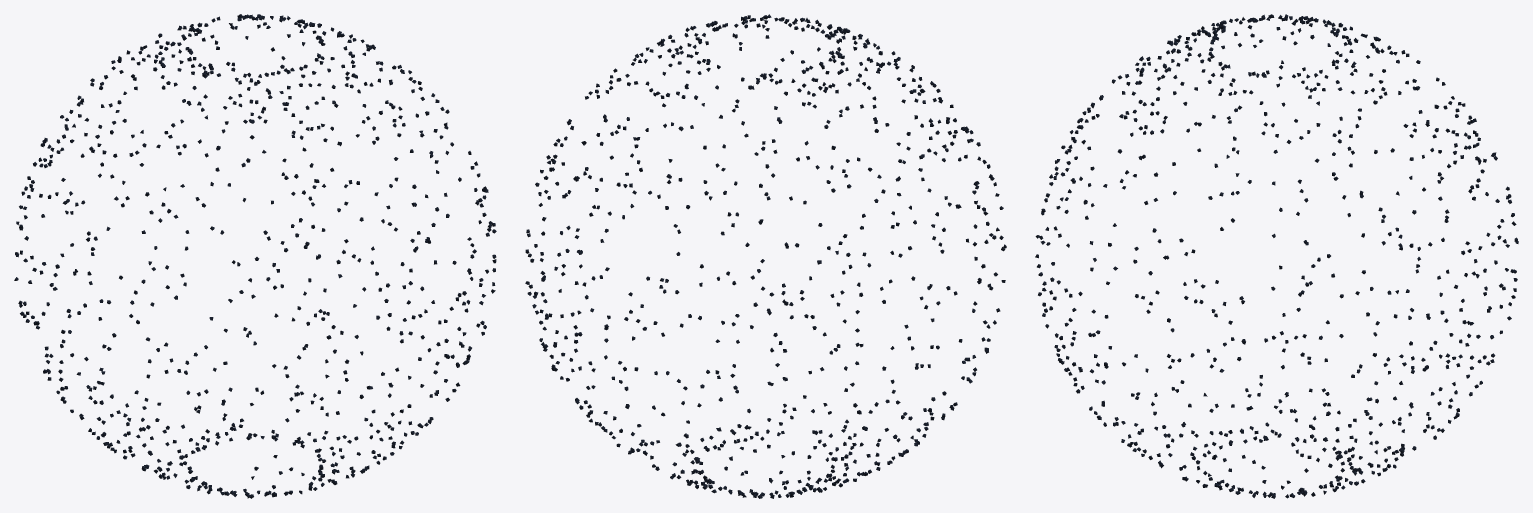
Rendered from Cosmos - 2m.glb.
The picture shows the model from 3 angles, left to right: view 1: azimuth 30°, elevation 25°; view 2: azimuth 150°, elevation 25°; view 3: azimuth 270°, elevation 25°; orthographic projection.
Visible parts, largest first — view 1: Cosmos - 2m; view 2: Cosmos - 2m; view 3: Cosmos - 2m.
Part boxes in pixels (<box>): Cosmos - 2m: <box>14,14,496,498</box>; Cosmos - 2m: <box>525,14,1006,498</box>; Cosmos - 2m: <box>1035,14,1518,498</box>.
Size of the model in its own units: 0.3608 by 0.3487 by 0.3608.
